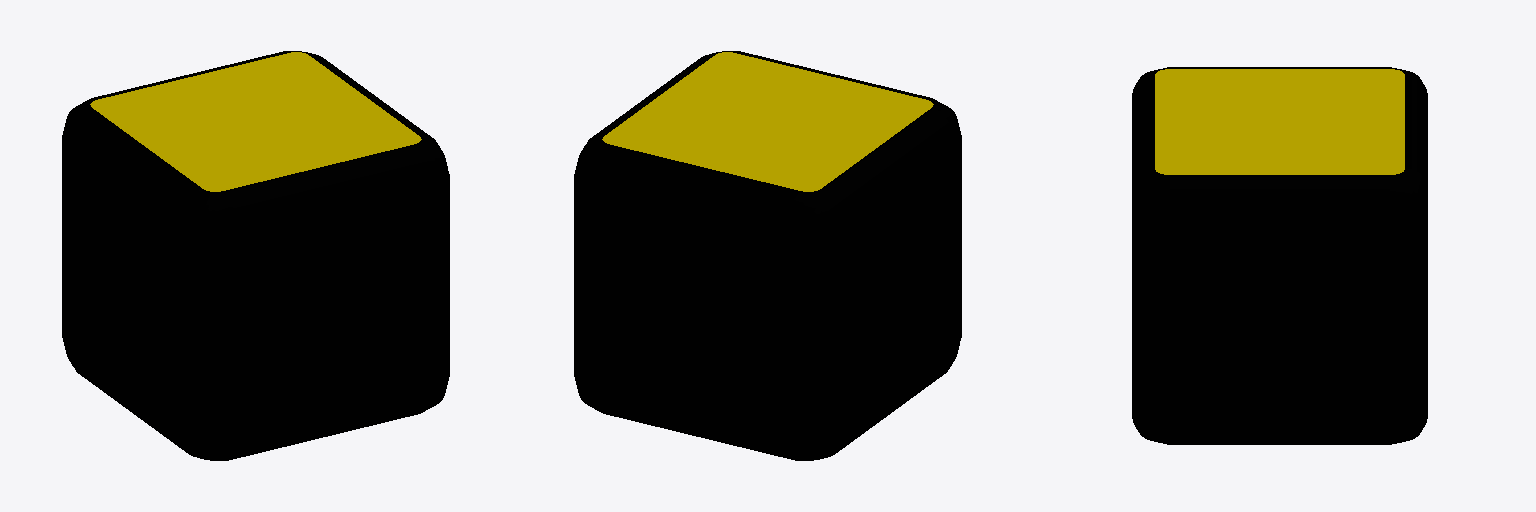
The model's file is center_y.obj.
3 views of the same model, side by side, from view 1: azimuth 30°, elevation 25°; view 2: azimuth 150°, elevation 25°; view 3: azimuth 270°, elevation 25° (orthographic).
Visible parts, largest first — view 1: Cube; view 2: Cube; view 3: Cube.
Part boxes in pixels (x1,y1,x2,y2): Cube: (62, 51, 449, 460); Cube: (574, 51, 961, 460); Cube: (1132, 67, 1427, 444).
Size of the model in its own units: 2 by 2 by 2.